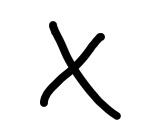mult: (40, 21, 121, 120)
